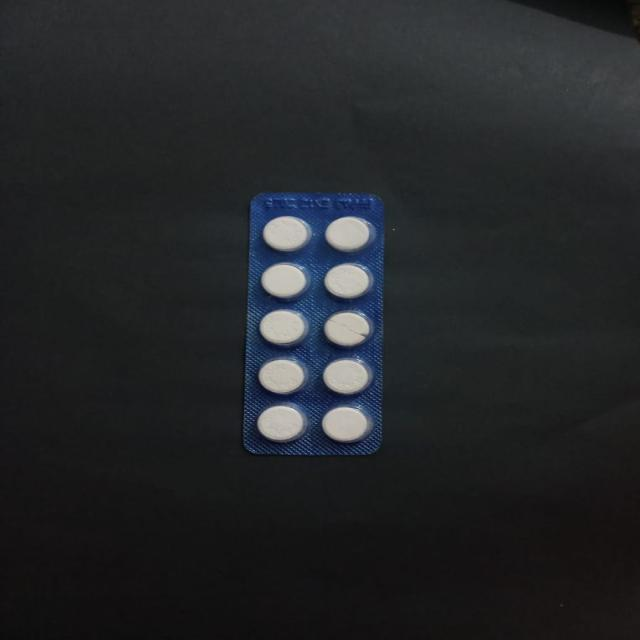defect: (322, 310, 376, 350)
